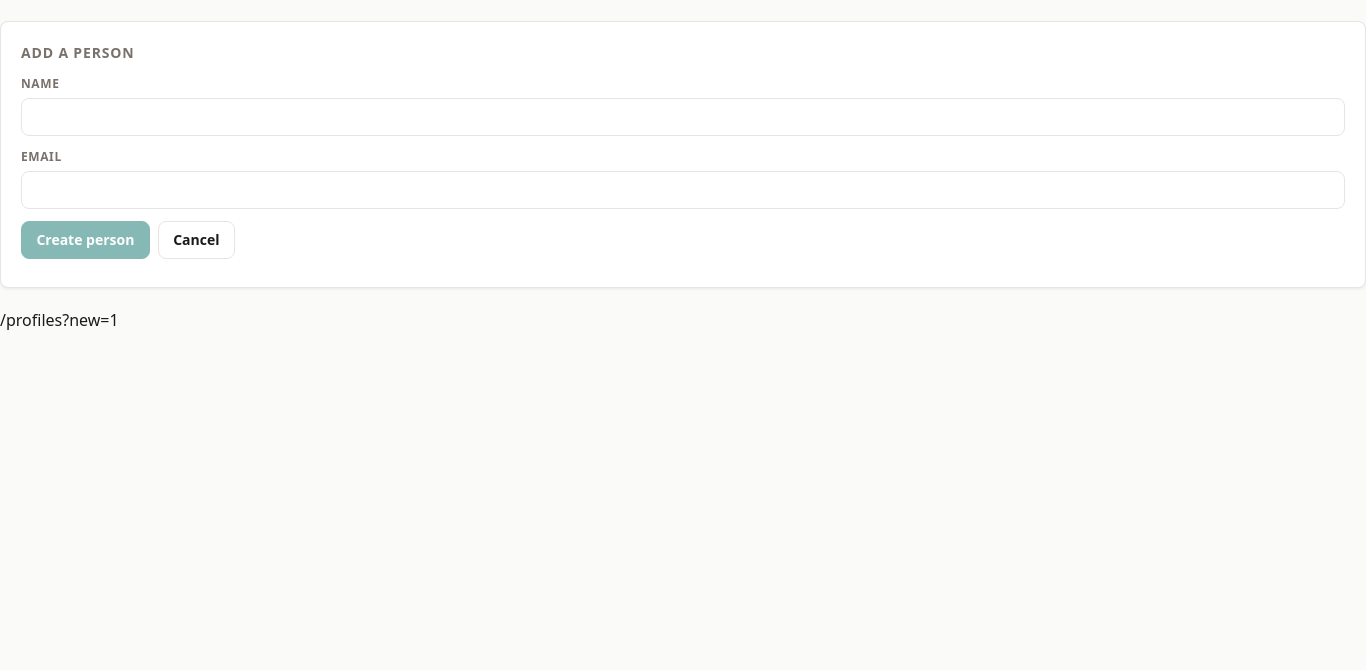
Test case: ProfileScreen › ?new=1 opens the create form in place of the editor, and Cancel goes back
Check: the button "Create person" is shown, box [21,221,150,259]
Step 1. Click the button "Cancel" → coordinates (196, 240), box [158,221,235,259]
(page scrolled)
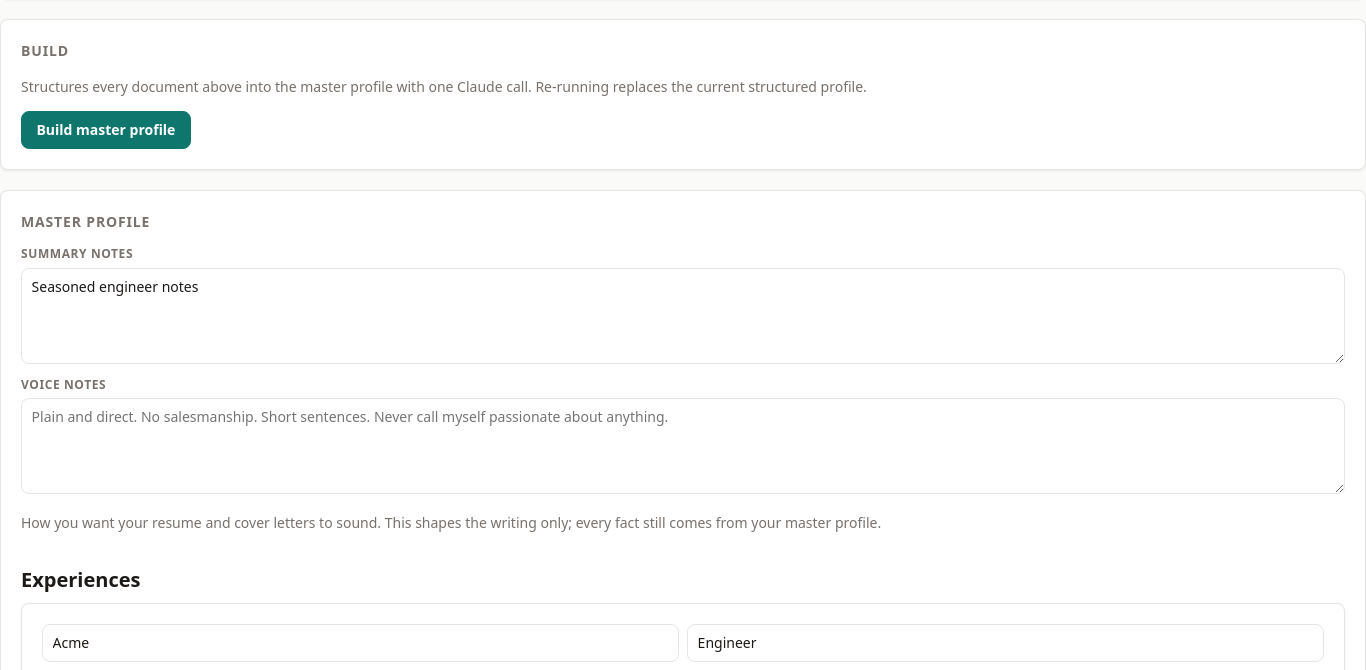
Check: the text box showing "Seasoned engineer notes" is shown, box [21,268,1345,364]
